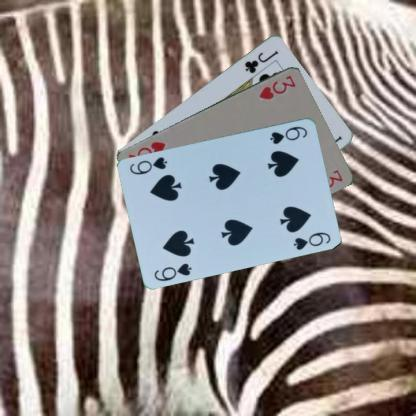3h: (256, 72, 297, 102)
6s: (151, 260, 193, 282), (268, 123, 308, 145)
Jc: (242, 48, 280, 74)
